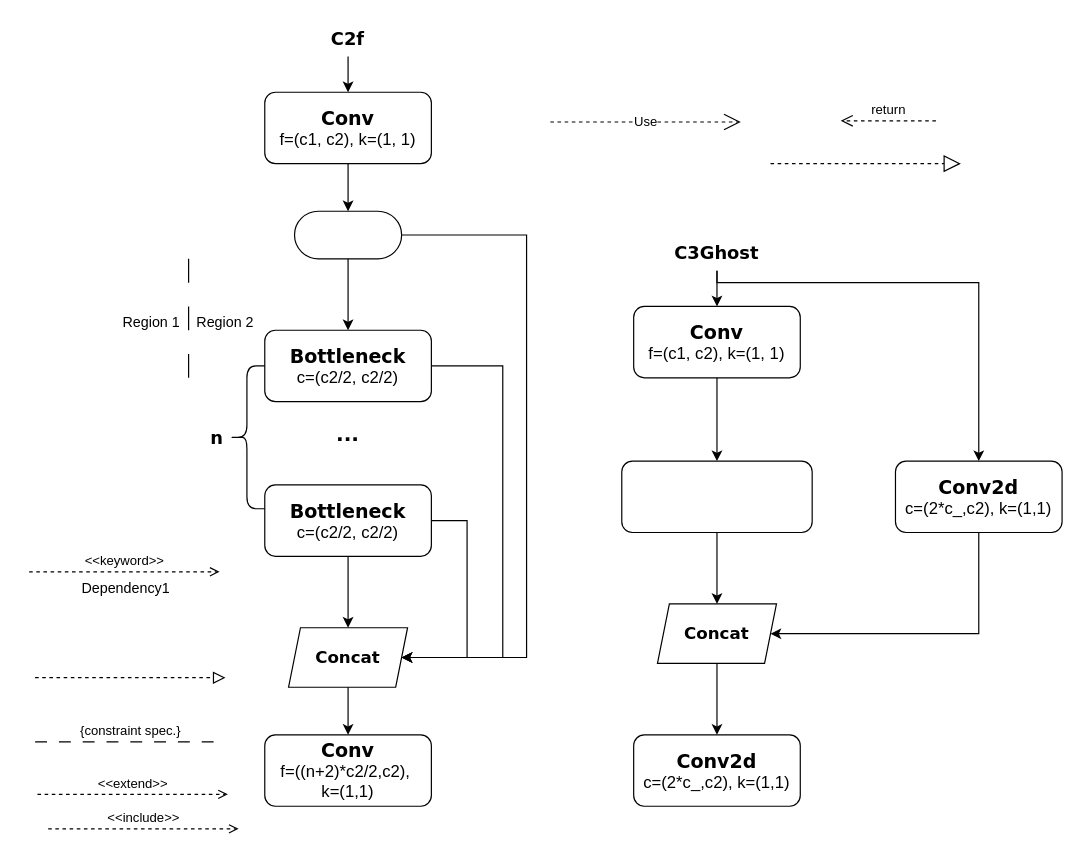
The diagram is 1083 pixels wide and 859 high, and some of its shapes have lost their labels. Each missing label, with the box of its shape:
GhostBottleneck: (621, 460, 812, 533)
split: (293, 210, 402, 259)
